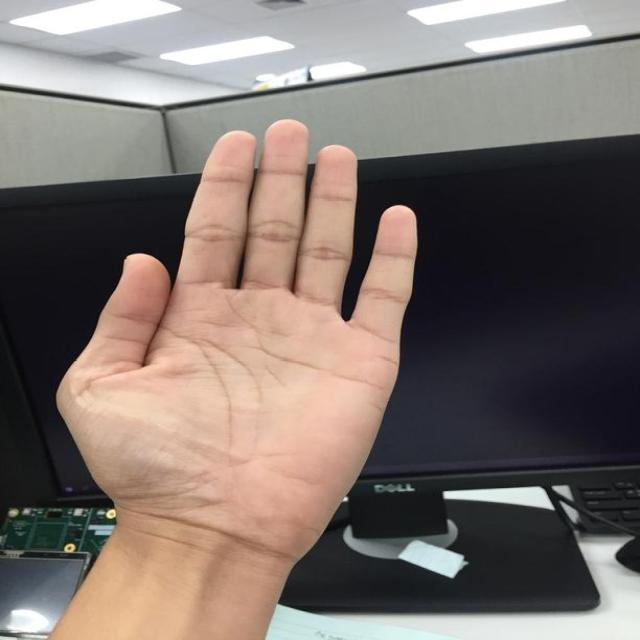hand: (52, 117, 419, 538)
